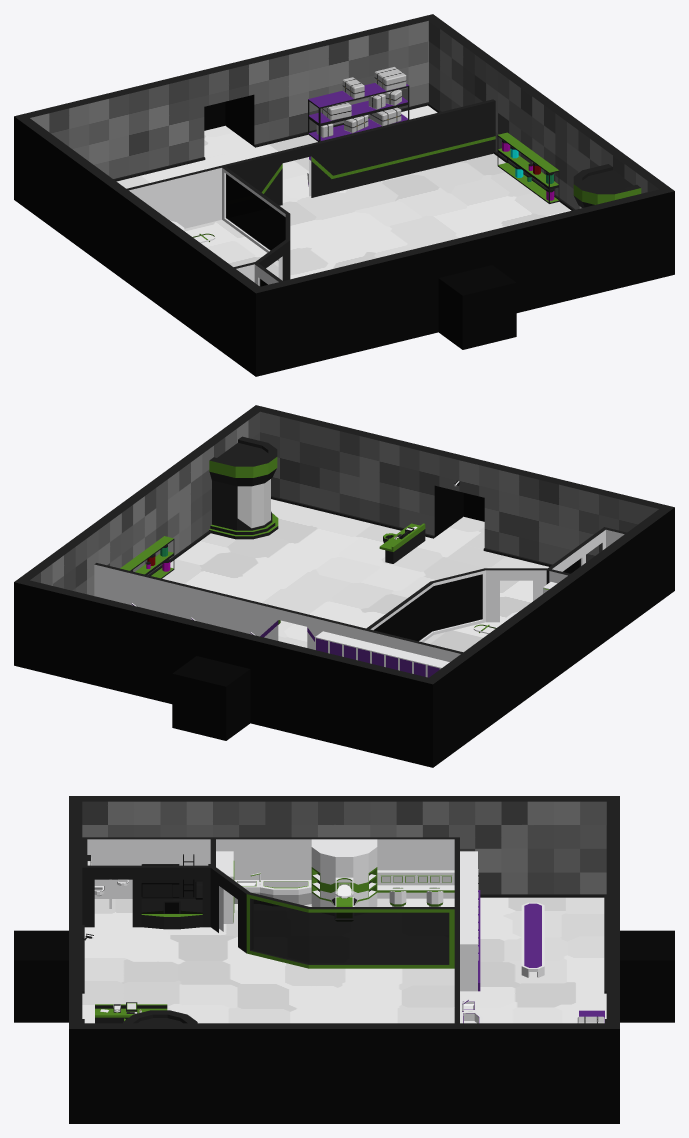
Rendered from Medical_Room_1x1x2.fbx.
3 renders of one model, top to bottom at view 1: azimuth 30°, elevation 25°; view 2: azimuth 150°, elevation 25°; view 3: azimuth 270°, elevation 25°, orthographic. The views are drawn at different scales.
Visible parts, largest first — view 1: Medical_Room_1x1x2; view 2: Medical_Room_1x1x2; view 3: Medical_Room_1x1x2.
Boxes of the visible parts, x1,y1,x2,y2 form: Medical_Room_1x1x2: (14,14,674,376); Medical_Room_1x1x2: (14,405,674,767); Medical_Room_1x1x2: (14,796,674,1123).
Bounding box in the file's own units: 42 × 50.4 × 8.
